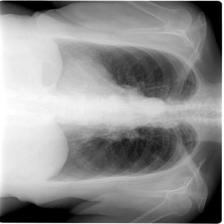tuberculosis: (45, 35, 204, 181)
